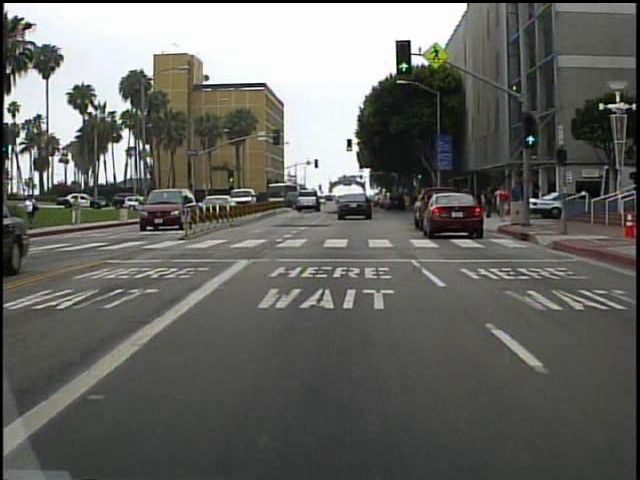person: (24, 193, 45, 227), (496, 185, 512, 223), (511, 180, 526, 219), (73, 193, 88, 228)
